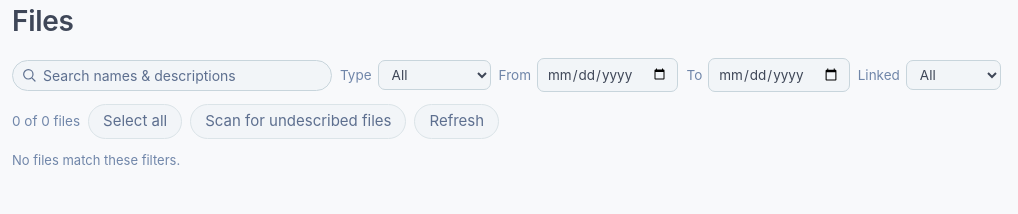
Test: Files › runs a scan and reports the queue size
expect the text "No files match these filters." is shown: met, box top-left (12, 152), bottom-right (180, 168)
What coordinates should you click on to do the following:
click the button "Scan for undescribed files"
I would click on:
 (298, 122)
Its box is top-left (190, 104), bottom-right (406, 139).
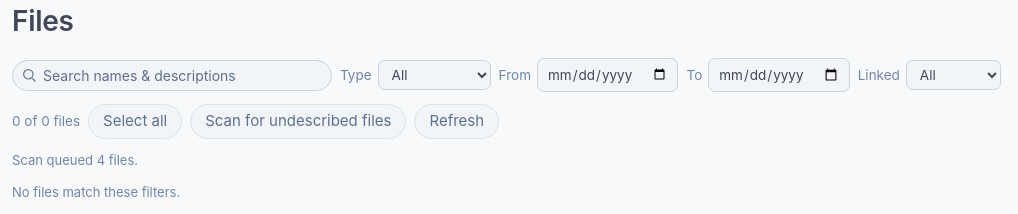
expect the text "Scan queued 4 files." is shown: met, box top-left (12, 152), bottom-right (138, 168)
